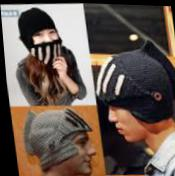NONE: (102, 92, 141, 144), (54, 132, 98, 176)
WRONG: (29, 26, 65, 67)
